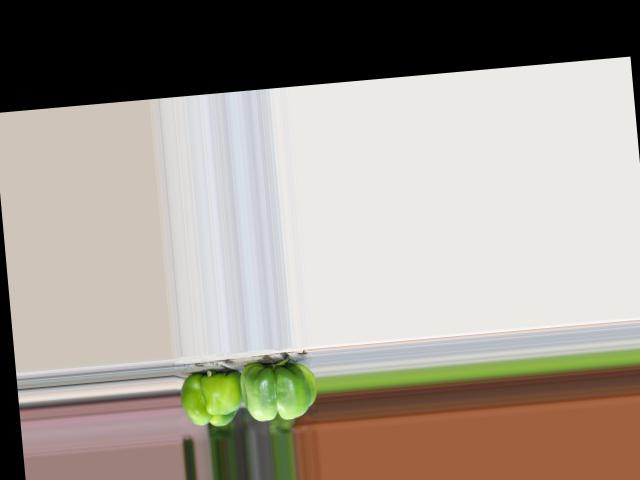bell_pepper: (176, 363, 246, 431)
